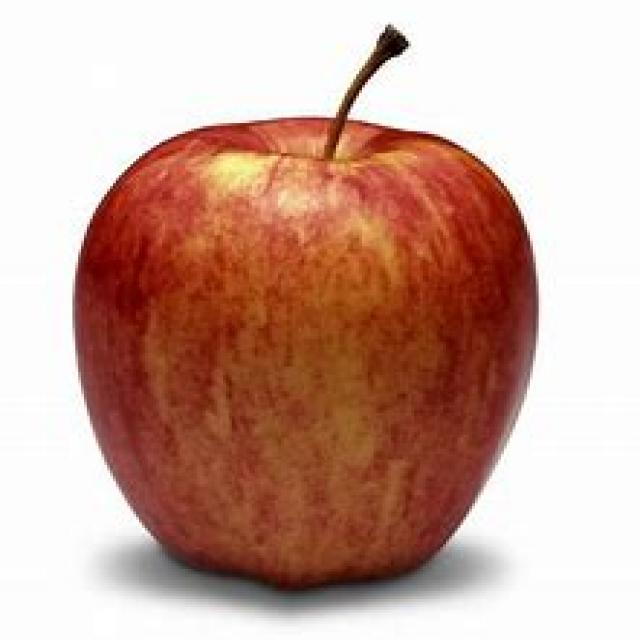Apple: (58, 22, 546, 596)
